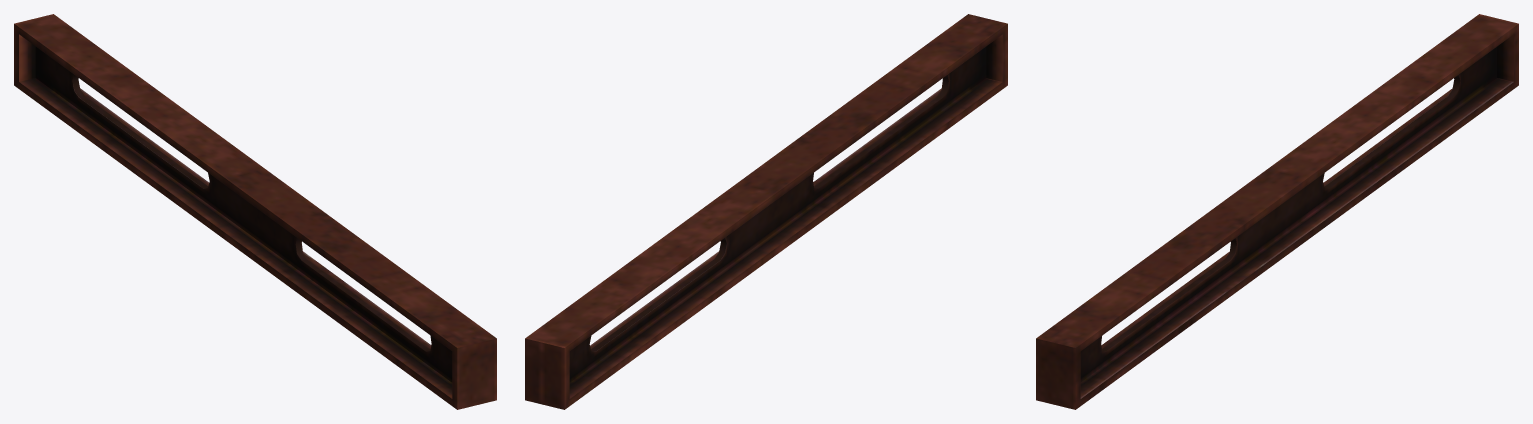
File: welder.dae
The picture shows the model from 3 angles, left to right: view 1: azimuth 30°, elevation 25°; view 2: azimuth 150°, elevation 25°; view 3: azimuth 330°, elevation 25°; orthographic projection.
Visible parts, largest first — view 1: polySurface795; view 2: polySurface795; view 3: polySurface795.
Boxes of the visible parts, <box> form: polySurface795: <box>14,14,496,409</box>; polySurface795: <box>525,14,1007,409</box>; polySurface795: <box>1036,14,1518,409</box>.
Size of the model in its own units: 0.206 by 0.3081 by 4.
